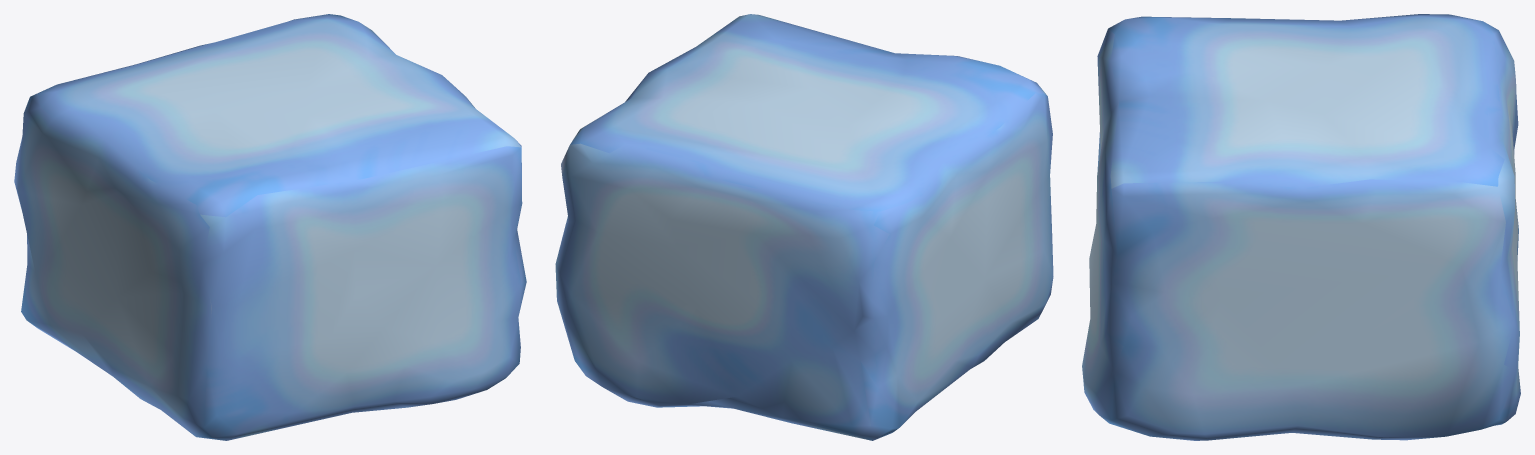
The model's file is blocks_mizu.fbx.
3 renders of one model, left to right at view 1: azimuth 30°, elevation 25°; view 2: azimuth 150°, elevation 25°; view 3: azimuth 270°, elevation 25°, orthographic. The views are drawn at different scales.
Parts seen in each view (by area): view 1: mizu; view 2: mizu; view 3: mizu.
Boxes of the visible parts, x1,y1,x2,y2 form: mizu: (14,14,526,440); mizu: (555,14,1053,440); mizu: (1082,14,1520,440).
Bounding box in the file's own units: 84.5 × 59.68 × 84.83.
